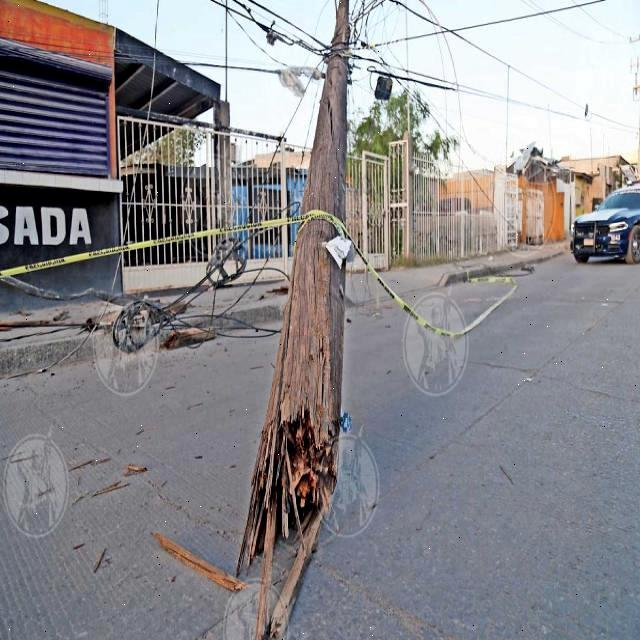Broken Pole: (235, 0, 349, 636)
